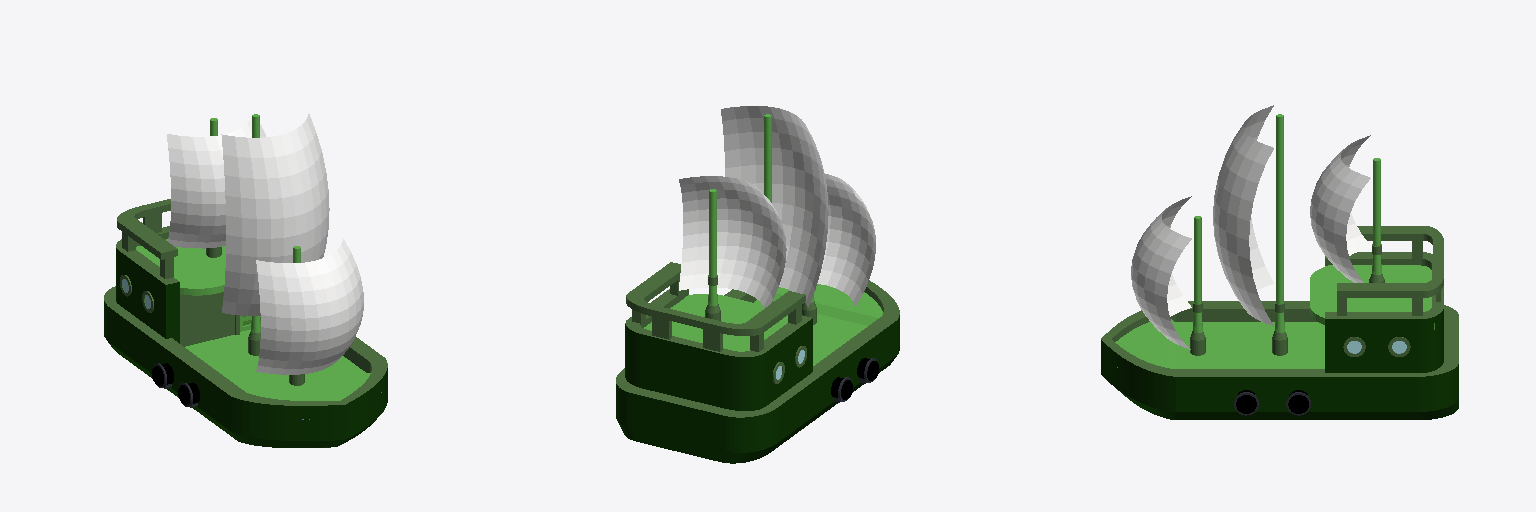
Rendered from player_ghost.obj.
3 views of the same model, side by side, from view 1: azimuth 30°, elevation 25°; view 2: azimuth 150°, elevation 25°; view 3: azimuth 270°, elevation 25° (orthographic).
Visible parts, largest first — view 1: mergedBlocks; view 2: mergedBlocks; view 3: mergedBlocks.
Part boxes in pixels (x1,y1,x2,y2): mergedBlocks: (104, 113, 387, 447); mergedBlocks: (616, 106, 899, 463); mergedBlocks: (1101, 105, 1458, 419).
Size of the model in its own units: 2.8 by 4.14 by 4.8.